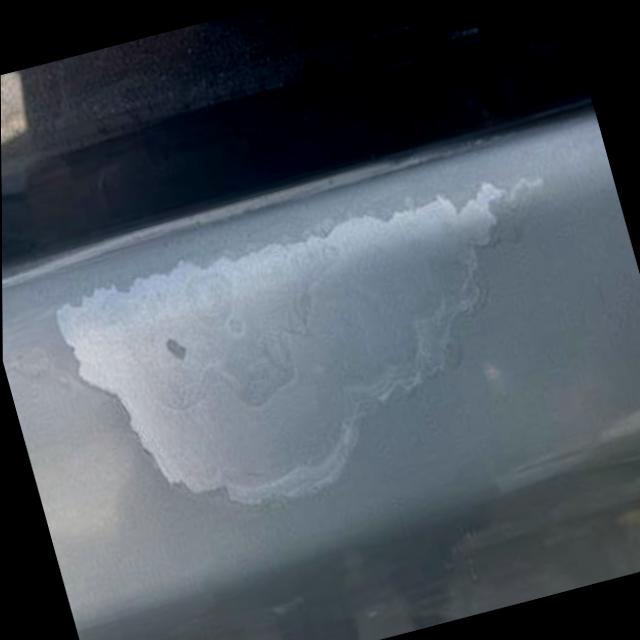Paint-fading: (39, 157, 560, 524)
